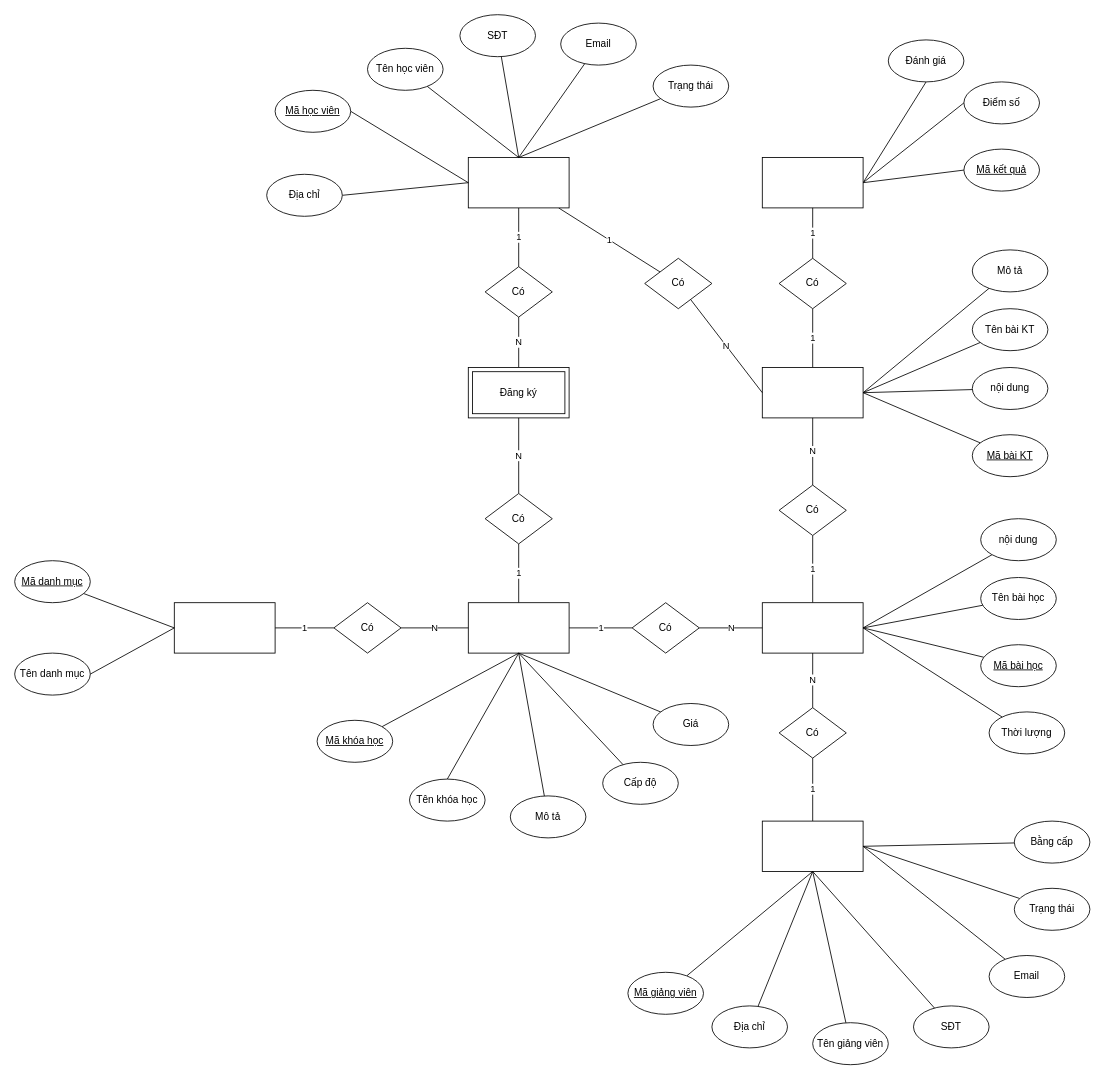
This 1105x1079 diagram has some shape labels left out. Each missing label, with the centre of its shape:
Bài học: [812,627]
bài kiểm tra: [812,392]
Danh mục: [224,627]
Giảng viên: [812,846]
Học viên: [518,182]
Khóa học: [518,627]
Kết quả: [812,182]
